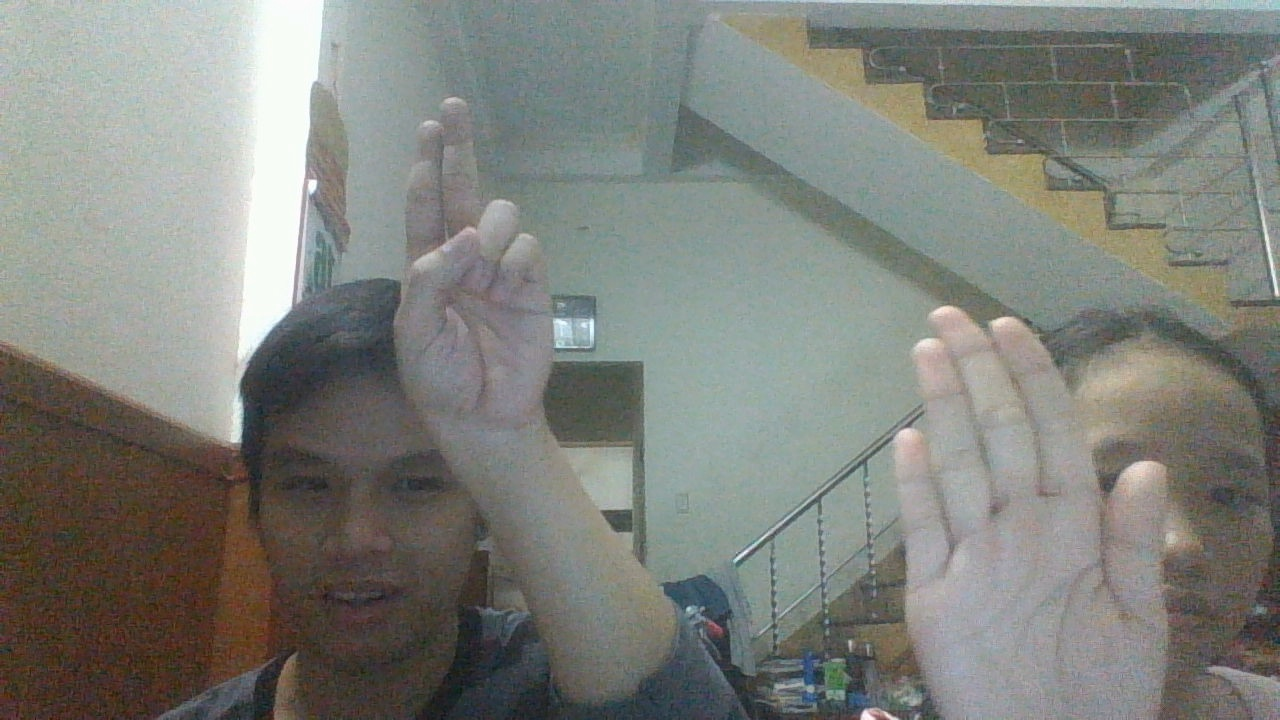check: (889, 298, 1169, 720)
write2: (398, 93, 556, 436)
